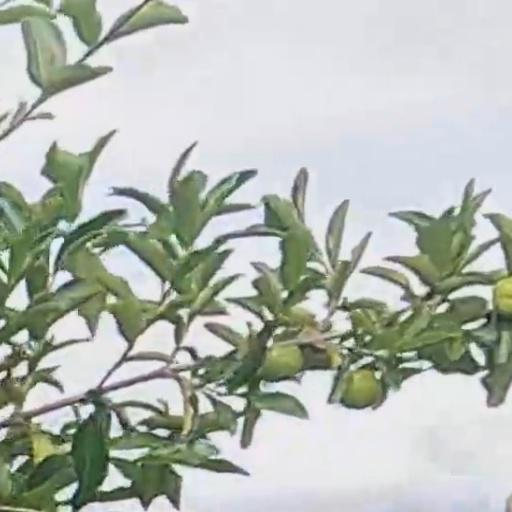acerola: (340, 369, 381, 410)
